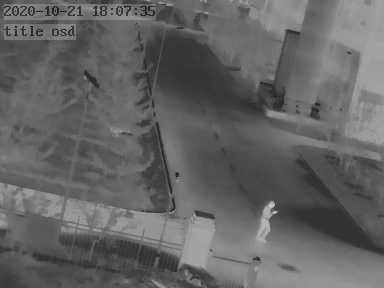person: (257, 197, 274, 240)
